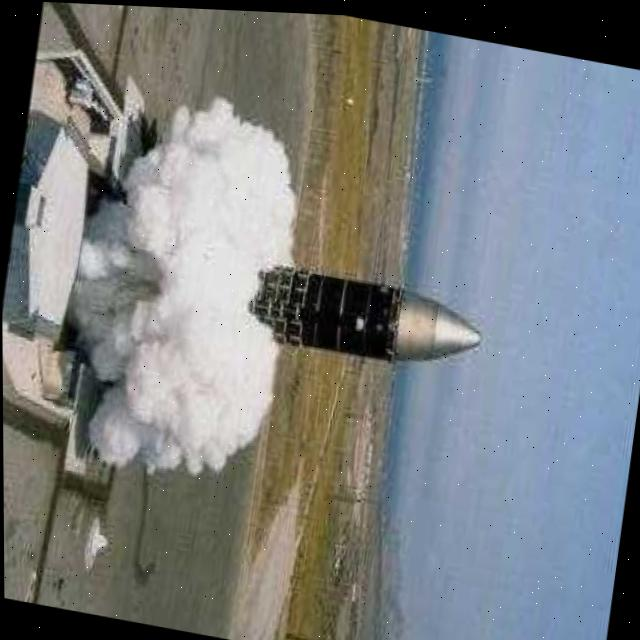missile: (259, 258, 488, 380)
